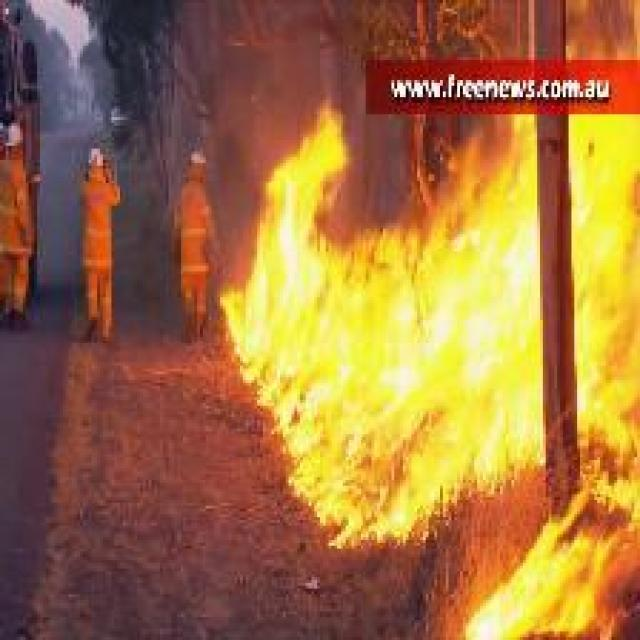Fire: (220, 99, 640, 550), (465, 472, 640, 638)
